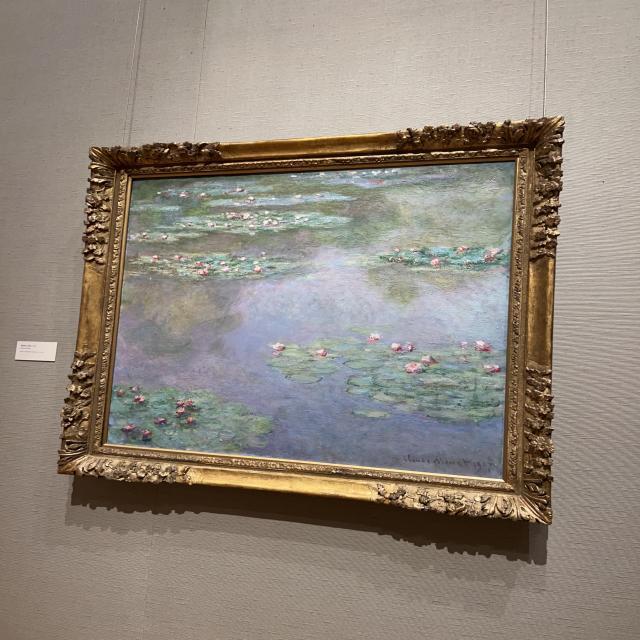lilies: (111, 166, 513, 476)
